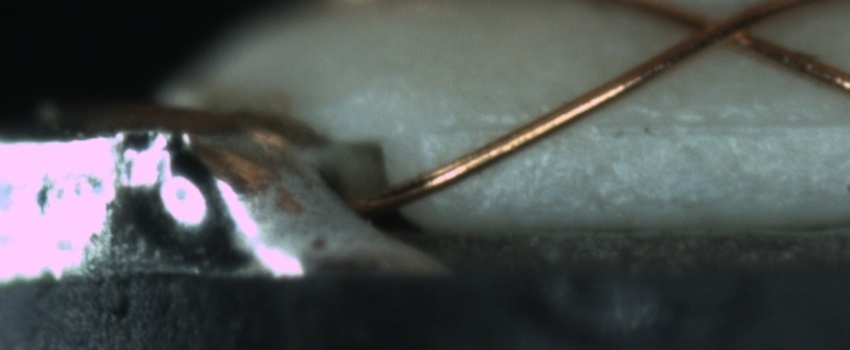CL: (680, 2, 773, 55)
DL: (430, 100, 849, 153)
